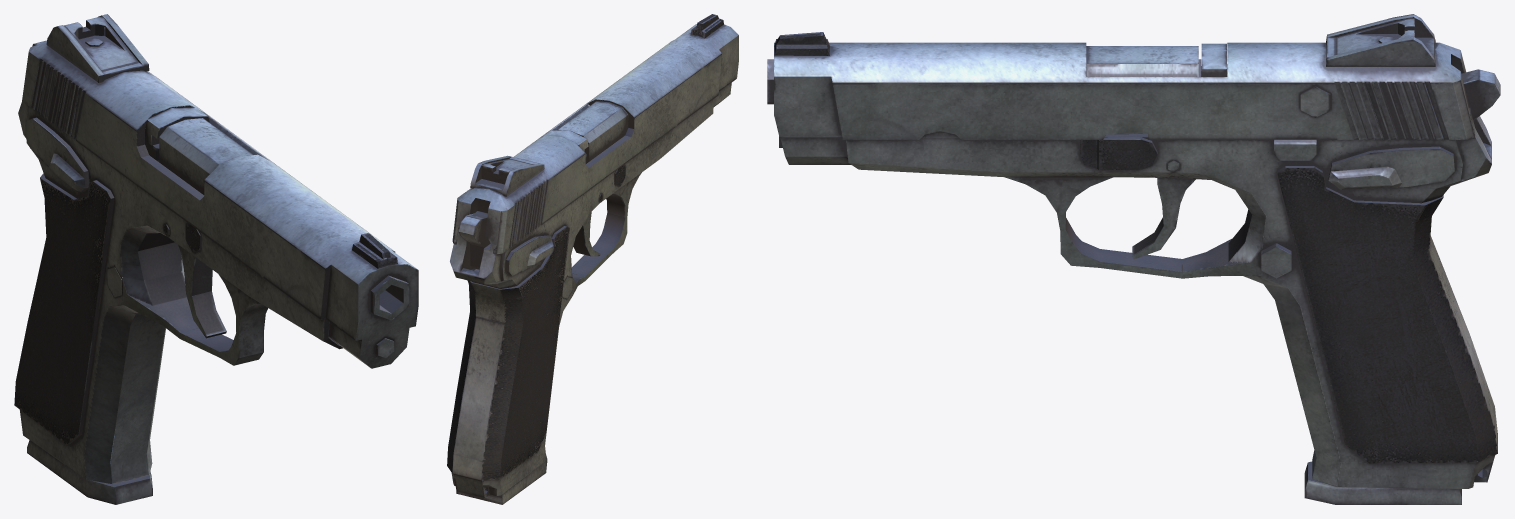
The model's file is Gun.fbx.
The picture shows the model from 3 angles, left to right: view 1: azimuth 30°, elevation 25°; view 2: azimuth 150°, elevation 25°; view 3: azimuth 270°, elevation 25°; orthographic projection. The views are drawn at different scales.
Parts seen in each view (by area): view 1: Gun; view 2: Gun; view 3: Gun.
Part boxes in pixels (x1,y1,x2,y2): Gun: [14, 14, 418, 504]; Gun: [447, 14, 738, 504]; Gun: [767, 14, 1500, 504].
Size of the model in its own units: 4.04 by 19.52 by 28.08.
